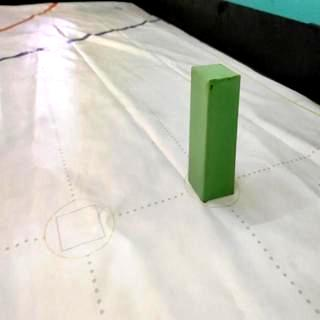greenbox: (188, 62, 242, 203)
